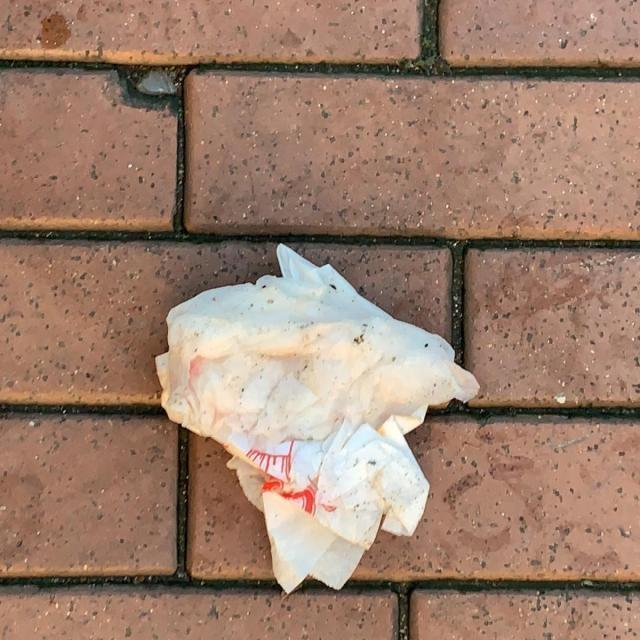Paper: (152, 242, 484, 596)
